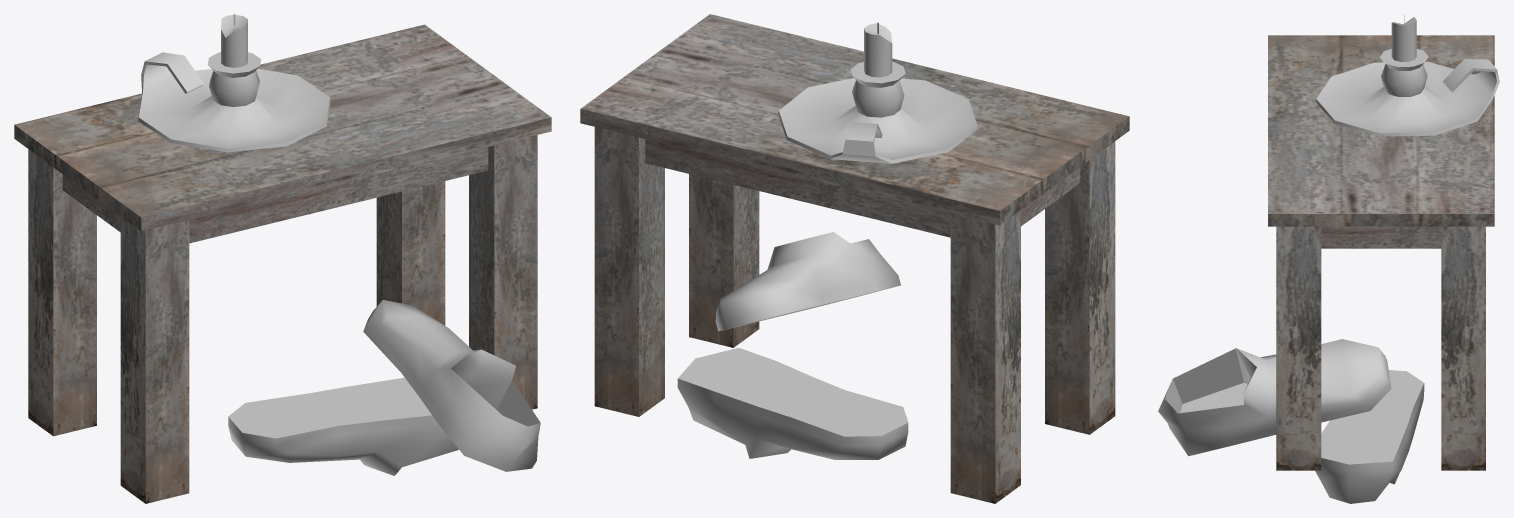
The model's file is VeladorViejo.FBX.
3 renders of one model, left to right at view 1: azimuth 30°, elevation 25°; view 2: azimuth 150°, elevation 25°; view 3: azimuth 270°, elevation 25°, orthographic. The views are drawn at different scales.
Parts seen in each view (by area): view 1: mesa004, Cylinder034, Shoe002, shoe003; view 2: mesa004, shoe003, Cylinder034, Shoe002; view 3: mesa004, Shoe002, Cylinder034, shoe003.
Boxes of the visible parts, <box> form: mesa004: <box>14,24,551,503</box>; Cylinder034: <box>138,14,330,152</box>; Shoe002: <box>363,300,540,471</box>; shoe003: <box>228,377,458,475</box>; mesa004: <box>580,14,1129,503</box>; shoe003: <box>677,347,908,459</box>; Cylinder034: <box>778,22,978,163</box>; Shoe002: <box>715,232,900,331</box>; mesa004: <box>1268,35,1494,470</box>; Shoe002: <box>1158,339,1391,456</box>; Cylinder034: <box>1315,15,1499,136</box>; shoe003: <box>1315,370,1424,503</box>.
Bounding box in the file's own units: 22.23 × 23.95 × 17.97.
